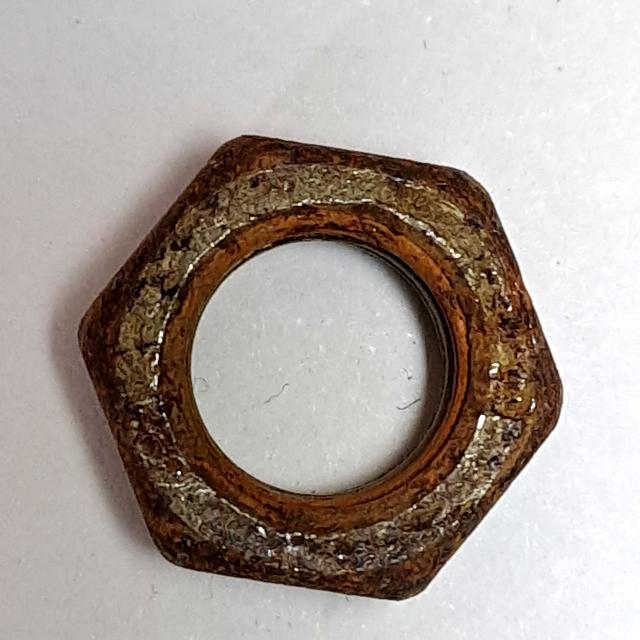Rust: (70, 124, 573, 615)
